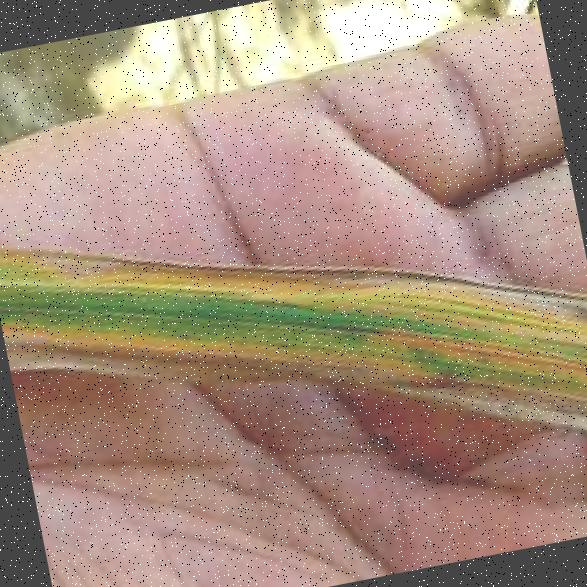Bacteria_Leaf_Blight: (29, 136, 534, 490)
